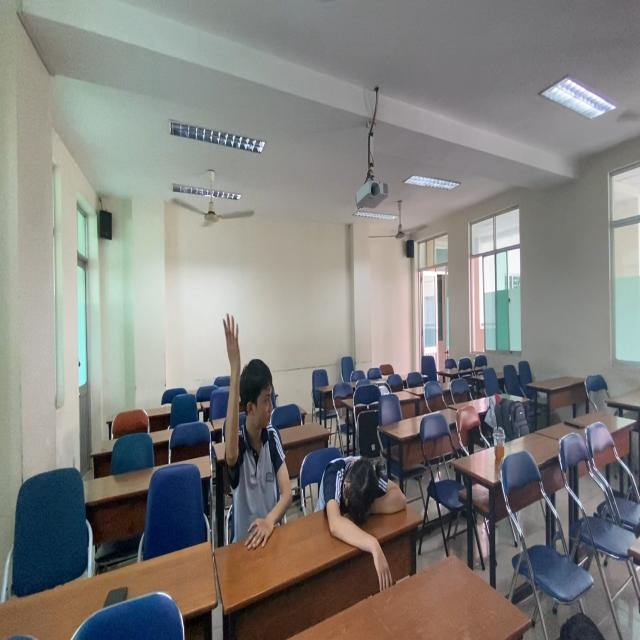raise_hand: (218, 314, 295, 554)
sleep: (318, 447, 410, 597)
